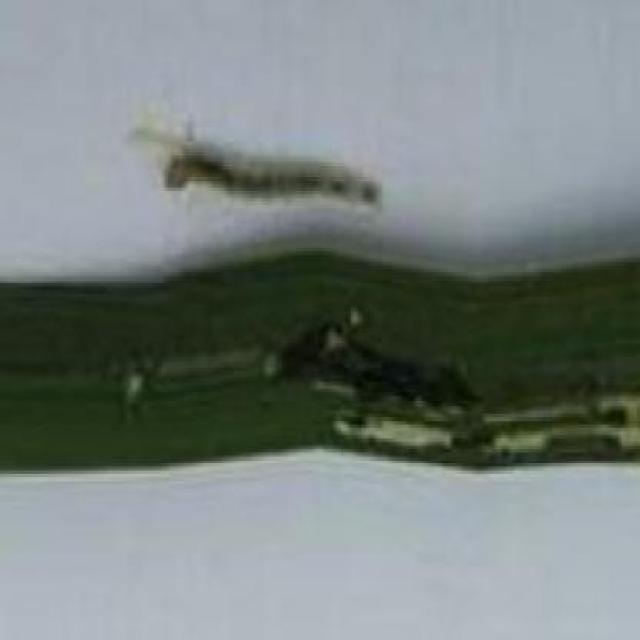leaf-folder: (133, 94, 399, 224)
